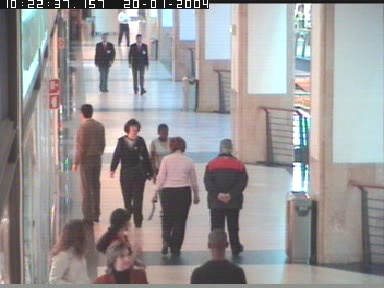person: (151, 139, 199, 257), (204, 138, 248, 260), (110, 119, 151, 227), (72, 104, 105, 226), (96, 207, 140, 282), (190, 228, 247, 284), (48, 219, 86, 285), (93, 240, 147, 284), (147, 122, 177, 199), (127, 32, 149, 94), (94, 34, 116, 92), (117, 9, 132, 47)
